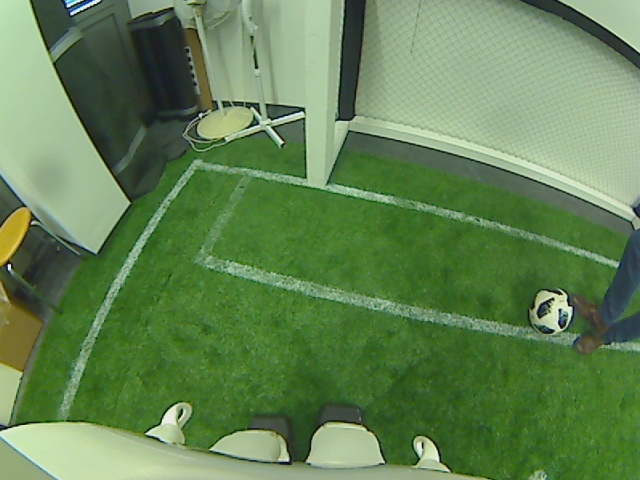ball: (529, 287, 574, 338)
